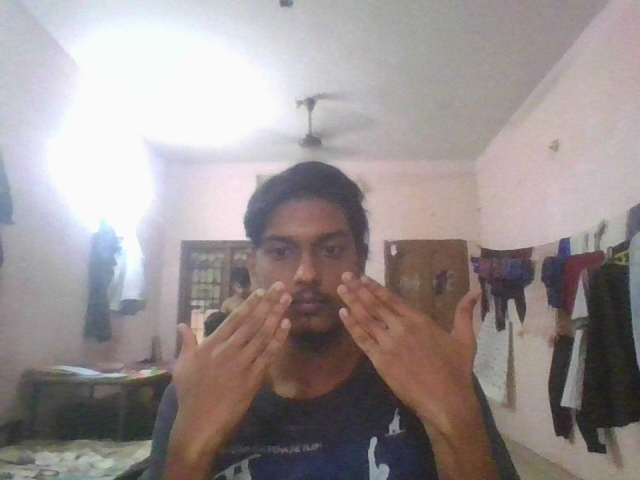thankyou: (170, 270, 484, 409)
